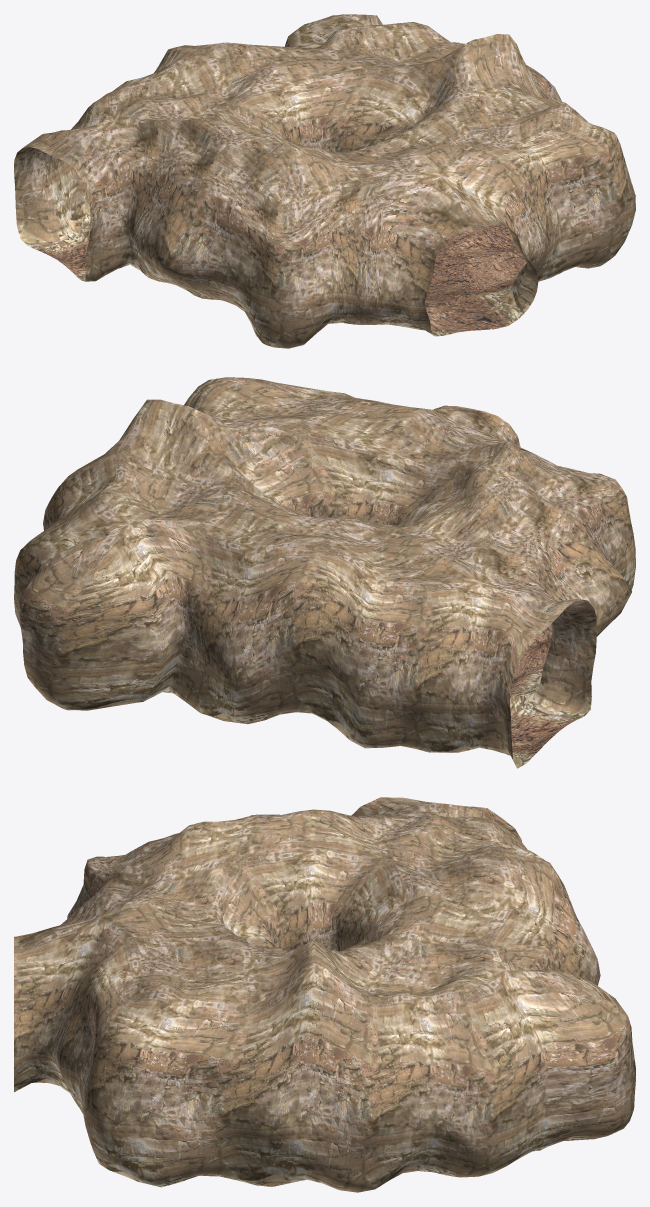
Rendered from thm_tato_cave_s02_r17_roomaab_mesh_r17.fbx.
3 views of the same model, one above another, from view 1: azimuth 30°, elevation 25°; view 2: azimuth 150°, elevation 25°; view 3: azimuth 270°, elevation 25° (orthographic). The views are drawn at different scales.
Visible parts, largest first — view 1: mesh_node; view 2: mesh_node; view 3: mesh_node.
Boxes of the visible parts, x1,y1,x2,y2 form: mesh_node: (14, 14, 635, 348); mesh_node: (14, 377, 635, 768); mesh_node: (14, 797, 635, 1192).
Bounding box in the file's own units: 42.99 × 15.71 × 41.41.
